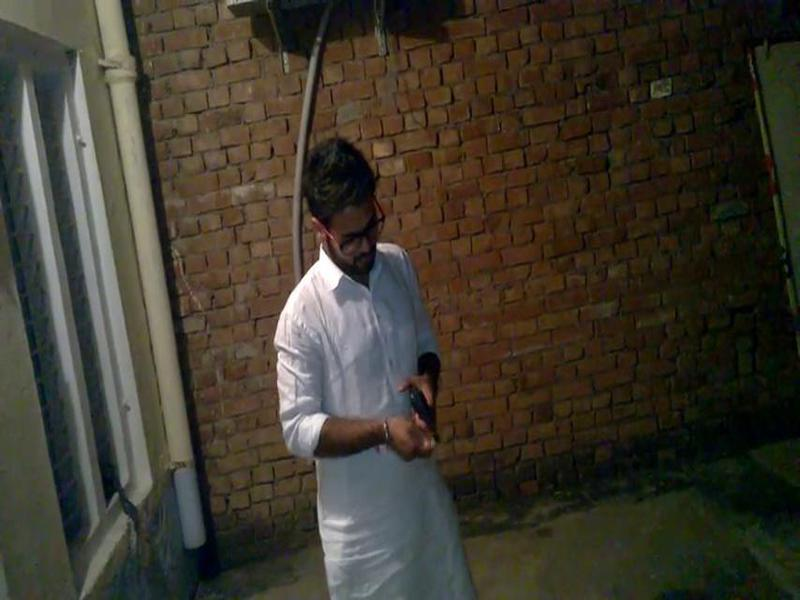Revolver: (384, 373, 454, 458)
